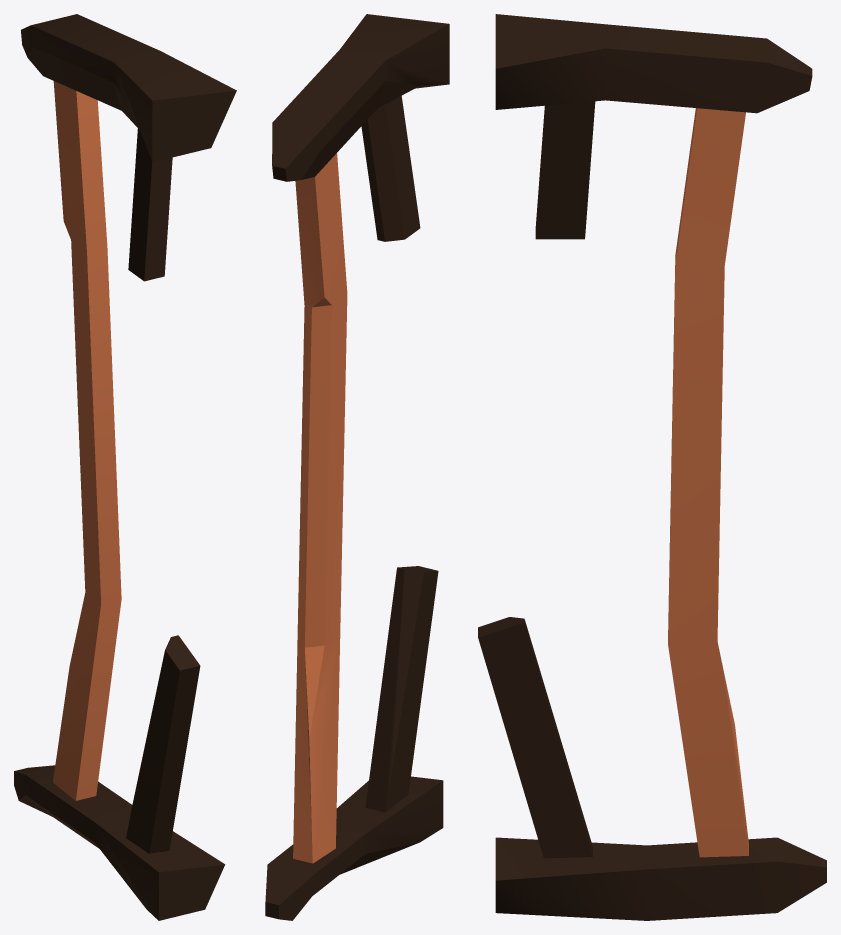
Rendered from Fence_02.FBX.
The picture shows the model from 3 angles, left to right: view 1: azimuth 30°, elevation 25°; view 2: azimuth 150°, elevation 25°; view 3: azimuth 270°, elevation 25°; orthographic projection. The views are drawn at different scales.
Parts seen in each view (by area): view 1: Fence_02; view 2: Fence_02; view 3: Fence_02.
Boxes of the visible parts, left/top/right/bottom form: Fence_02: left=14, top=14, right=236, bottom=920; Fence_02: left=265, top=14, right=449, bottom=920; Fence_02: left=478, top=14, right=826, bottom=920.
Bounding box in the file's own units: 0.388 × 3.62 × 1.31.
